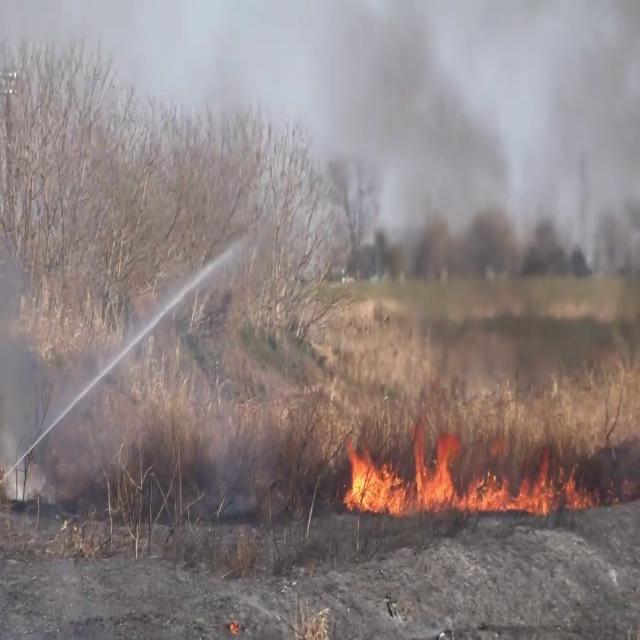Fire: (341, 434, 595, 522)
Smoke: (297, 2, 640, 313)
